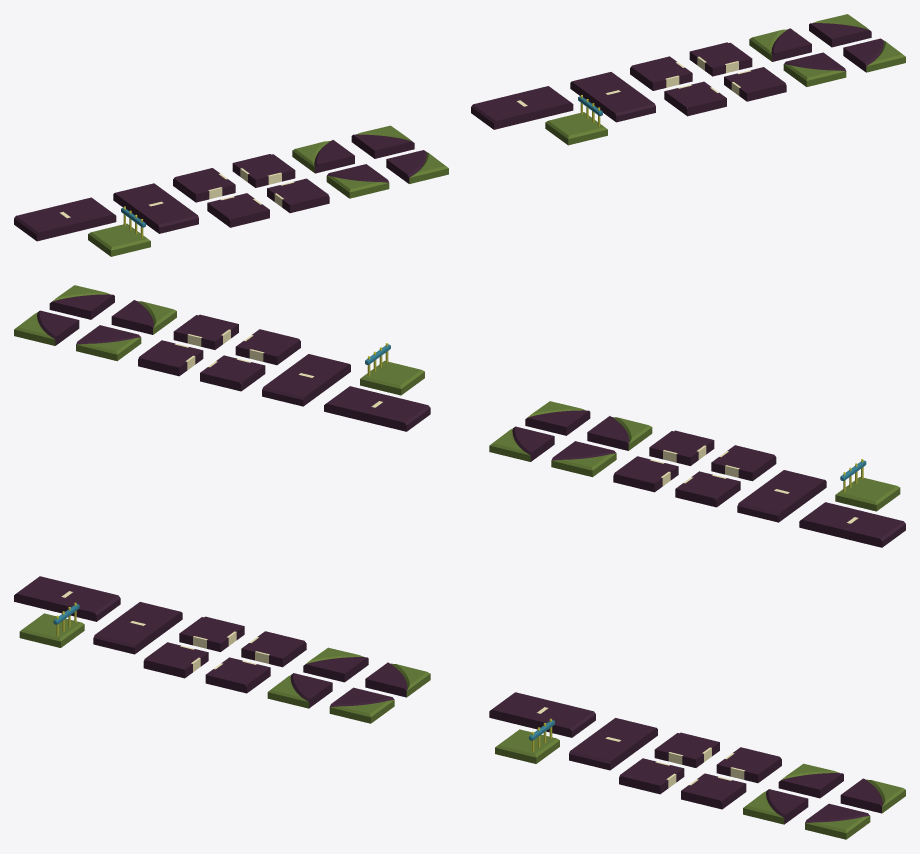
The model's file is RoadPack_04.glb.
The picture shows the model from 3 angles, top to bottom: view 1: azimuth 30°, elevation 25°; view 2: azimuth 150°, elevation 25°; view 3: azimuth 330°, elevation 25°; orthographic projection. The views are drawn at different scales.
Visible parts, largest first — view 1: Intersection2, Intersection2t, Intersection3, Intersection1, Intersection3t, Intersection4t, Intersection4, RoadVL t, RoadVL, Intersection1t, RoadHR t, RoadHR (+20 smaller); view 2: Intersection1t, Intersection1, Intersection2t, RoadHL, Intersection2, Intersection3, RoadHL t, RoadVL, RoadVL t, Intersection3t, Intersection4t, Intersection4 (+20 smaller); view 3: Intersection4t, Intersection4, Intersection3t, RoadHR, Intersection1, Intersection2, Intersection3, Intersection1t, Intersection2t, RoadHR t, RoadVR, RoadVR t (+20 smaller).
Boxes of the visible parts, x1,y1,x2,y2 form: Intersection2: [232, 154, 295, 187]; Intersection2t: [689, 42, 752, 76]; Intersection3: [207, 193, 269, 227]; Intersection1: [173, 168, 235, 202]; Intersection3t: [664, 81, 726, 116]; Intersection4t: [724, 67, 786, 101]; Intersection4: [267, 178, 329, 213]; RoadVL t: [471, 95, 533, 129]; RoadVL: [14, 206, 76, 241]; Intersection1t: [630, 56, 692, 90]; RoadHR t: [593, 88, 655, 122]; RoadHR: [136, 199, 198, 233]; Intersection1t: [200, 355, 265, 391]; Intersection1: [675, 471, 740, 507]; Intersection2t: [138, 340, 203, 376]; RoadHL: [737, 486, 802, 522]; Intersection2: [613, 456, 678, 492]; Intersection3: [711, 445, 776, 481]; RoadHL t: [262, 370, 327, 406]; RoadVL: [840, 511, 905, 547]; RoadVL t: [365, 395, 430, 431]; Intersection3t: [235, 329, 300, 365]; Intersection4t: [173, 314, 238, 349]; Intersection4: [649, 430, 714, 465]; Intersection4t: [681, 773, 746, 809]; Intersection4: [205, 657, 270, 693]; Intersection3t: [619, 758, 684, 794]; RoadHR: [93, 618, 158, 654]; Intersection1: [179, 616, 244, 651]; Intersection2: [241, 631, 306, 667]; Intersection3: [143, 642, 208, 678]; Intersection1t: [654, 732, 719, 767]; Intersection2t: [716, 747, 781, 783]; RoadHR t: [569, 734, 633, 770]; RoadVR: [55, 585, 120, 621]; RoadVR t: [530, 702, 595, 737].
Size of the model in its own units: 42 by 1.32 by 5.
Materials: 6 (1 with a texture image).
